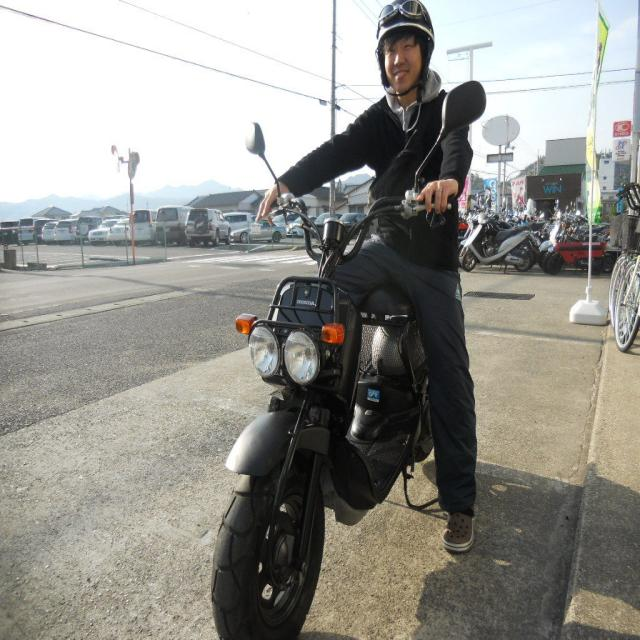helmet: (366, 0, 438, 94)
